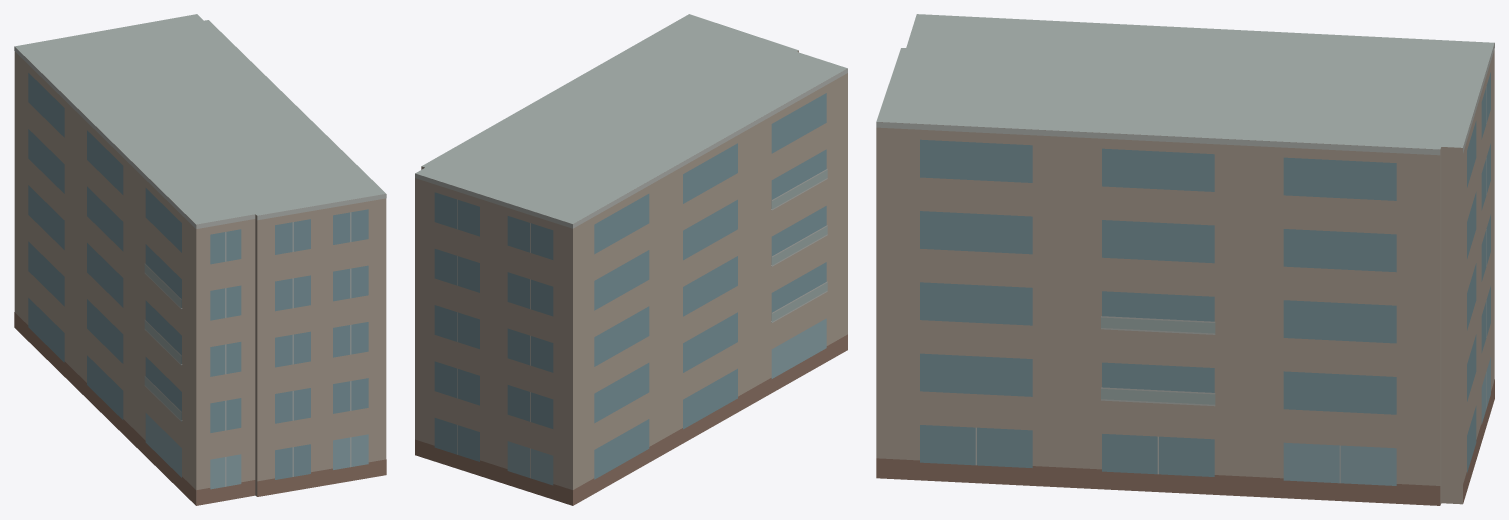
File: survey-upis-32681522.glb
The picture shows the model from 3 angles, left to right: view 1: azimuth 30°, elevation 25°; view 2: azimuth 150°, elevation 25°; view 3: azimuth 270°, elevation 25°; orthographic projection. The views are drawn at different scales.
Visible parts, largest first — view 1: survey-upis-32681522.tmp; view 2: survey-upis-32681522.tmp; view 3: survey-upis-32681522.tmp.
Part boxes in pixels (x1=…): survey-upis-32681522.tmp: x1=14, y1=14, x2=386, y2=505; survey-upis-32681522.tmp: x1=415, y1=14, x2=847, y2=505; survey-upis-32681522.tmp: x1=876, y1=14, x2=1494, y2=505.
Size of the model in its own units: 12.24 by 15 by 23.6.
